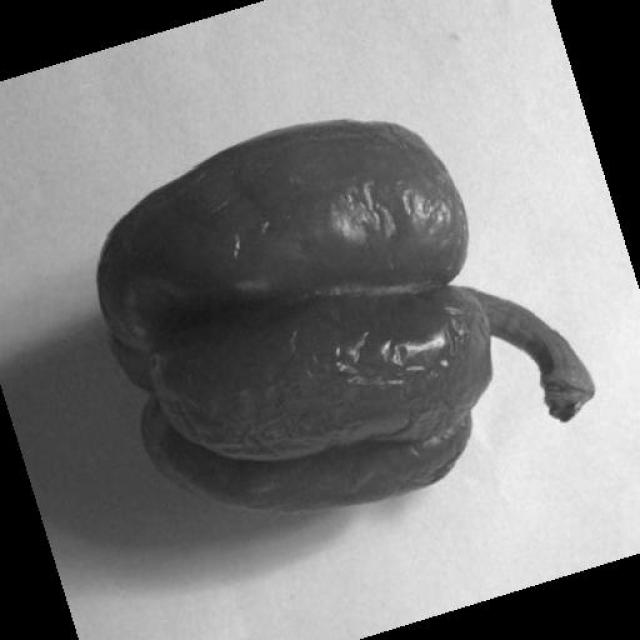Stale_Capsicum: (101, 118, 574, 512)
